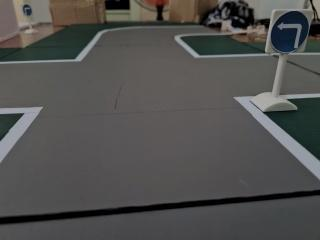left: (260, 4, 316, 57)
